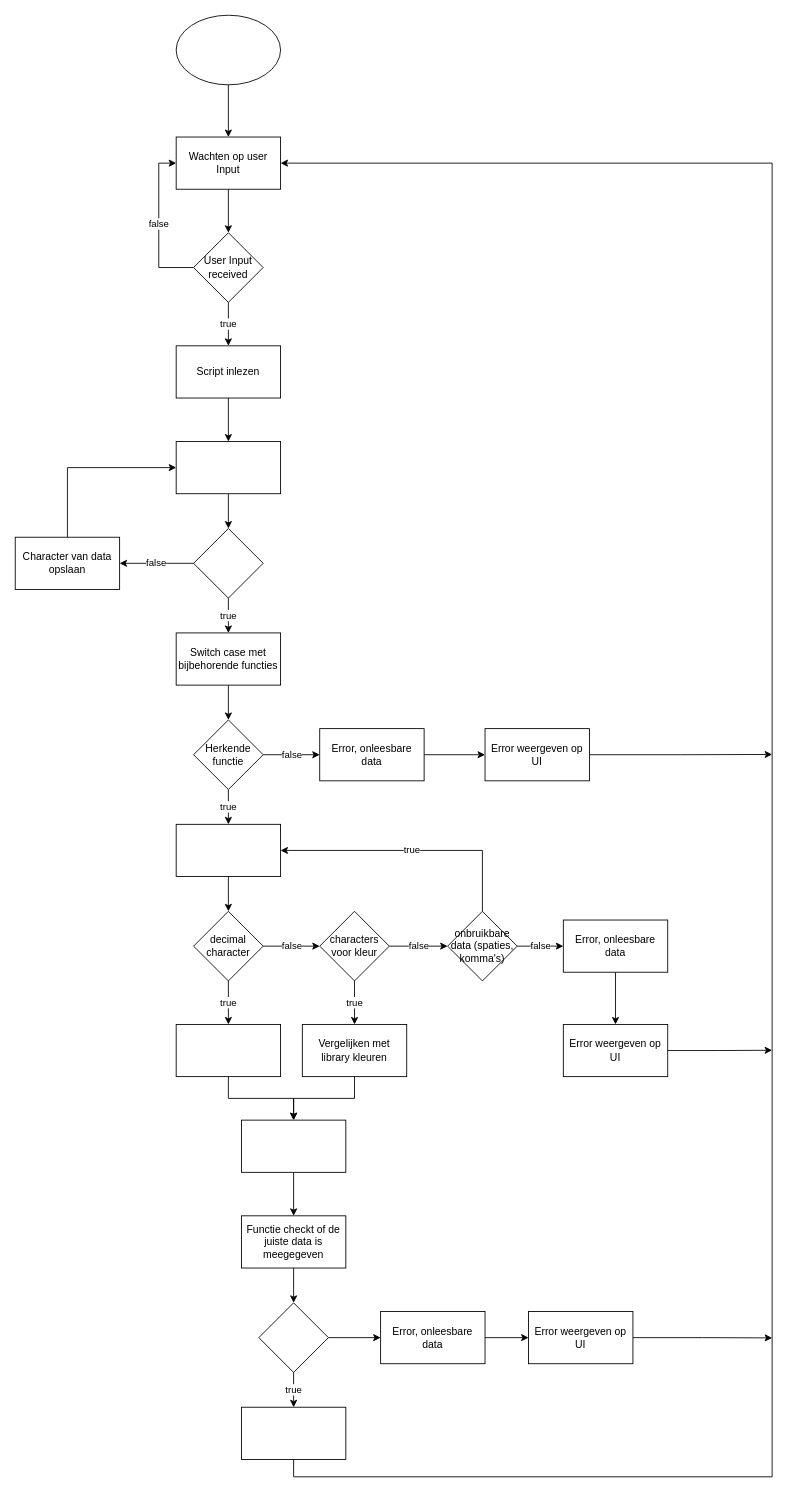
Image size: 794x1499. Some labels were removed from this diagram. The centre of each missing label's shape, as x and y in pixels:
data bruikbaar: (x=293, y=1337)
De bruikbare data doorsturen naar functie: (x=293, y=1145)
De char "getallen" omzetten van ASCII naar int: (x=228, y=1050)
Kijken naar enters voor nieuwe line: (x=228, y=467)
new line found: (x=228, y=563)
Ontcijferen van de lijn data: (x=228, y=850)
Start: (x=228, y=49)
Uitvoer weergeven op VGA scherm: (x=293, y=1432)
